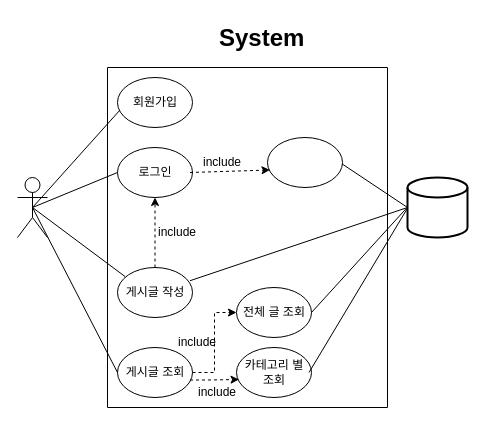
The diagram is 486 pixels wide and 425 high, and some of its shapes have lost their labels. Each missing label, with the centre of its shape:
"Actor" belongs at (x=32, y=207).
"DB" belongs at (x=437, y=207).
"인증" belongs at (x=304, y=162).
